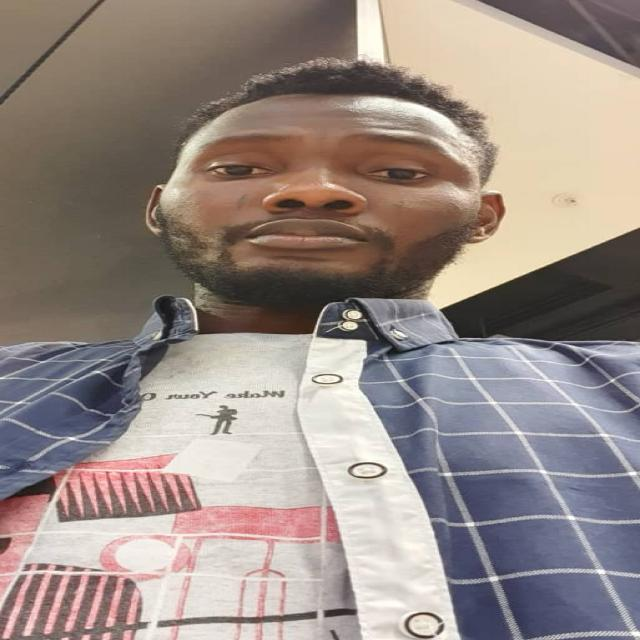sad: (133, 57, 520, 310)
